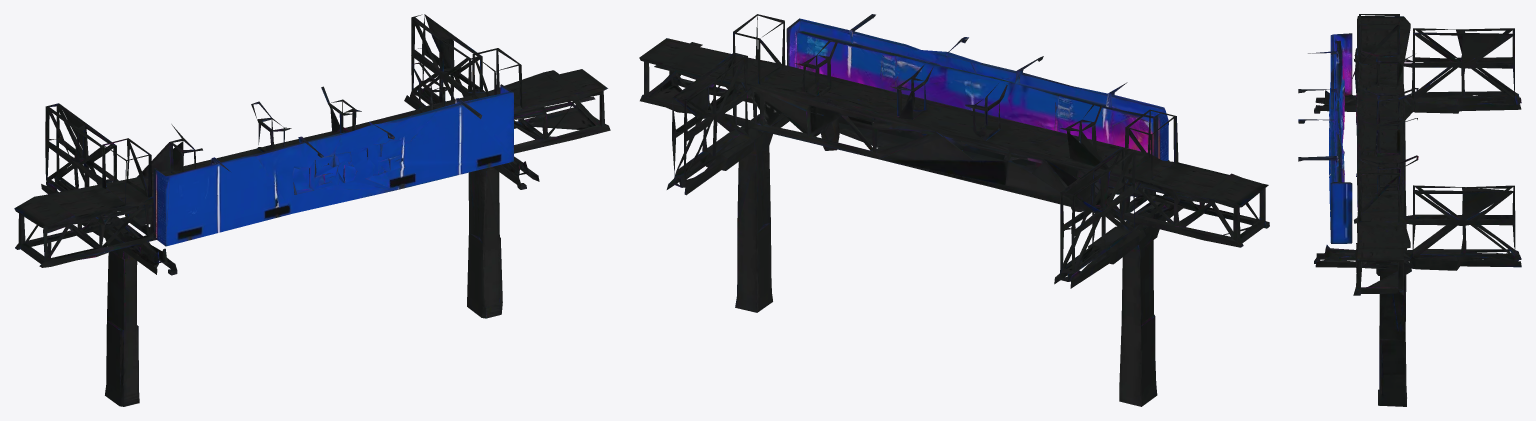
File: prop-gantry.glb
3 renders of one model, left to right at view 1: azimuth 30°, elevation 25°; view 2: azimuth 150°, elevation 25°; view 3: azimuth 270°, elevation 25°, orthographic. The views are drawn at different scales.
Size of the model in its own units: 1.9 by 0.8167 by 0.7338.
Materials: 1 (1 with a texture image).
